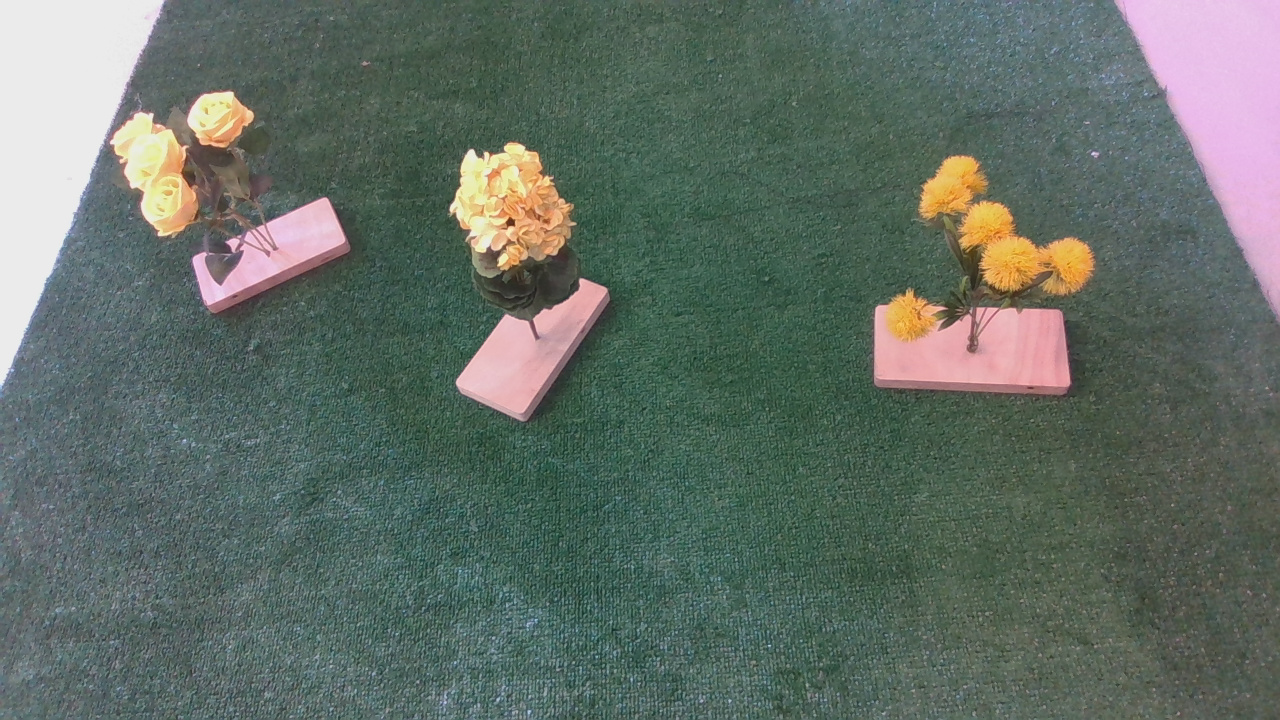dandelion: (887, 155, 1105, 352)
geranium: (440, 140, 596, 320)
rose: (109, 92, 273, 250)
